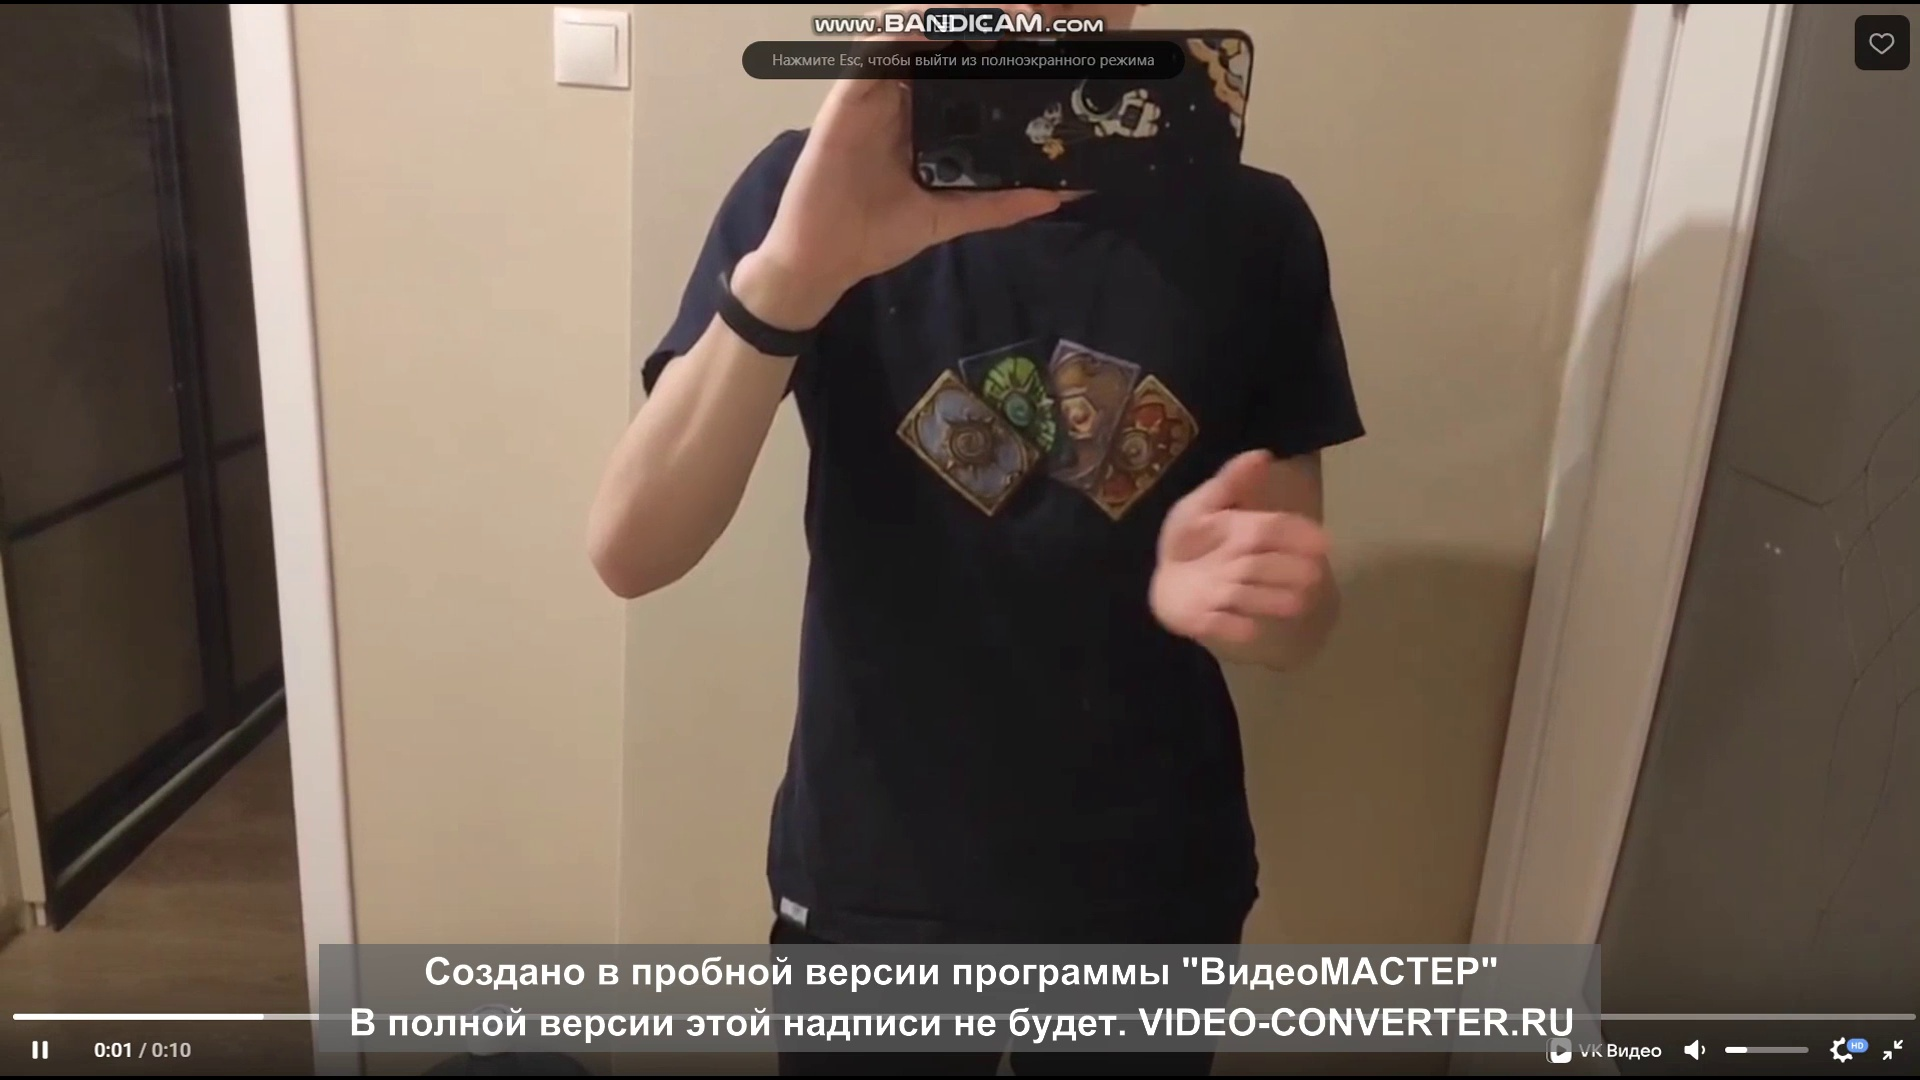Ладонь: (1150, 448, 1324, 645)
